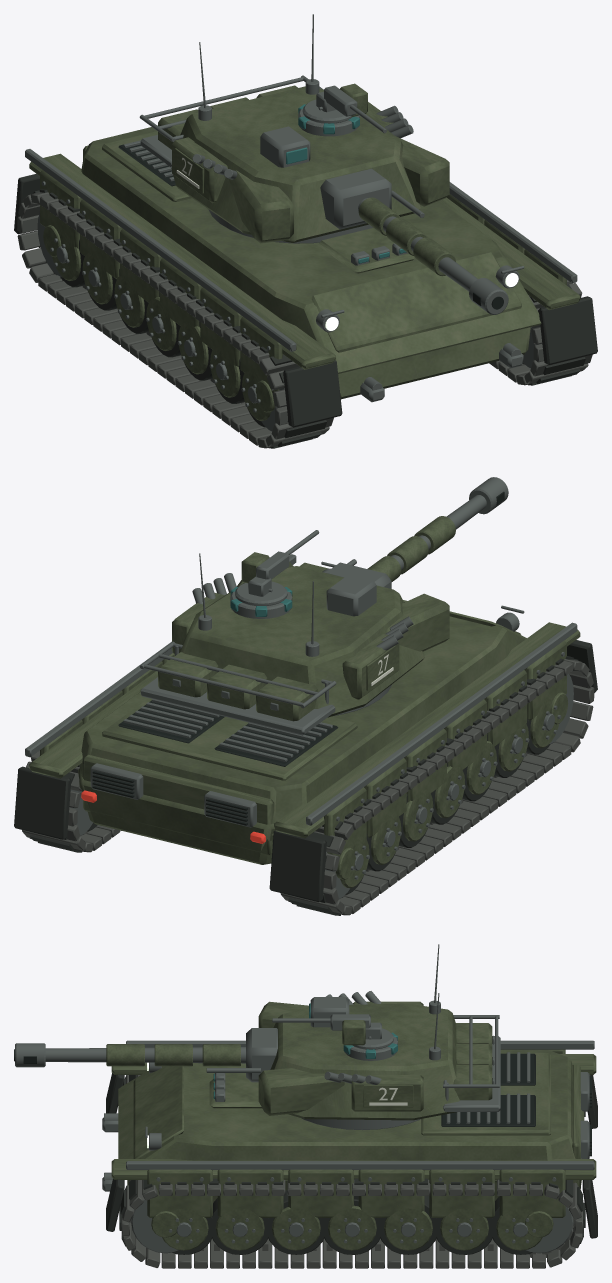
File: tank_cf27.glb
3 views of the same model, one above another, from view 1: azimuth 30°, elevation 25°; view 2: azimuth 150°, elevation 25°; view 3: azimuth 270°, elevation 25° (orthographic). The views are drawn at different scales.
Parts seen in each view (by area): view 1: Hull, Turret, Gun; view 2: Hull, Turret, Gun; view 3: Hull, Turret, Gun.
Part boxes in pixels (x1,y1,x2,y2): Hull: (14,86,597,448); Turret: (139,14,449,243); Gun: (358,197,508,314); Hull: (14,554,597,915); Turret: (139,530,449,735); Gun: (367,477,508,581); Hull: (102,1040,597,1268); Turret: (206,944,500,1120); Gun: (14,1043,245,1067).
Size of the model in its own units: 4 by 3.23 by 7.29.
Materials: 9 (1 with a texture image).
